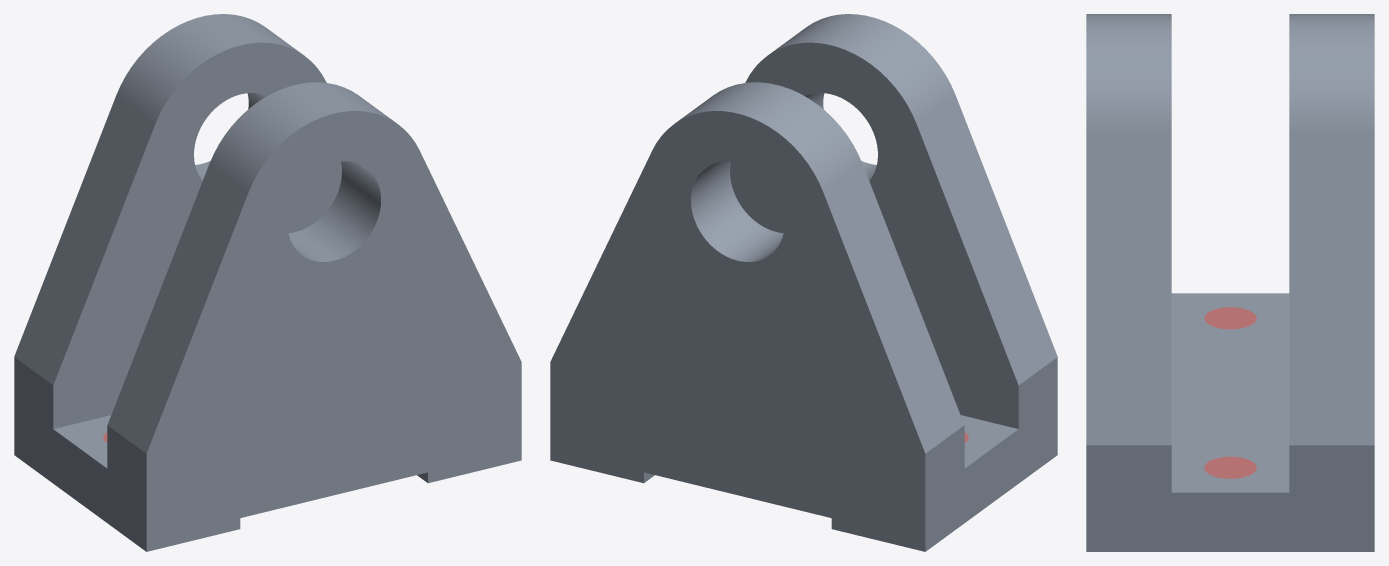
Rendered from step_08.glb.
3 renders of one model, left to right at view 1: azimuth 30°, elevation 25°; view 2: azimuth 150°, elevation 25°; view 3: azimuth 270°, elevation 25°, orthographic. The views are drawn at different scales.
Visible parts, largest first — view 1: part__fork bracket; view 2: part__fork bracket; view 3: part__fork bracket, removed__fork bracket.
Boxes of the visible parts, x1,y1,x2,y2 form: part__fork bracket: (14,14,521,551); part__fork bracket: (550,14,1057,551); part__fork bracket: (1086,14,1374,551); removed__fork bracket: (1204,307,1256,478).
Bounding box in the file's own units: 72 × 71.98 × 44.
